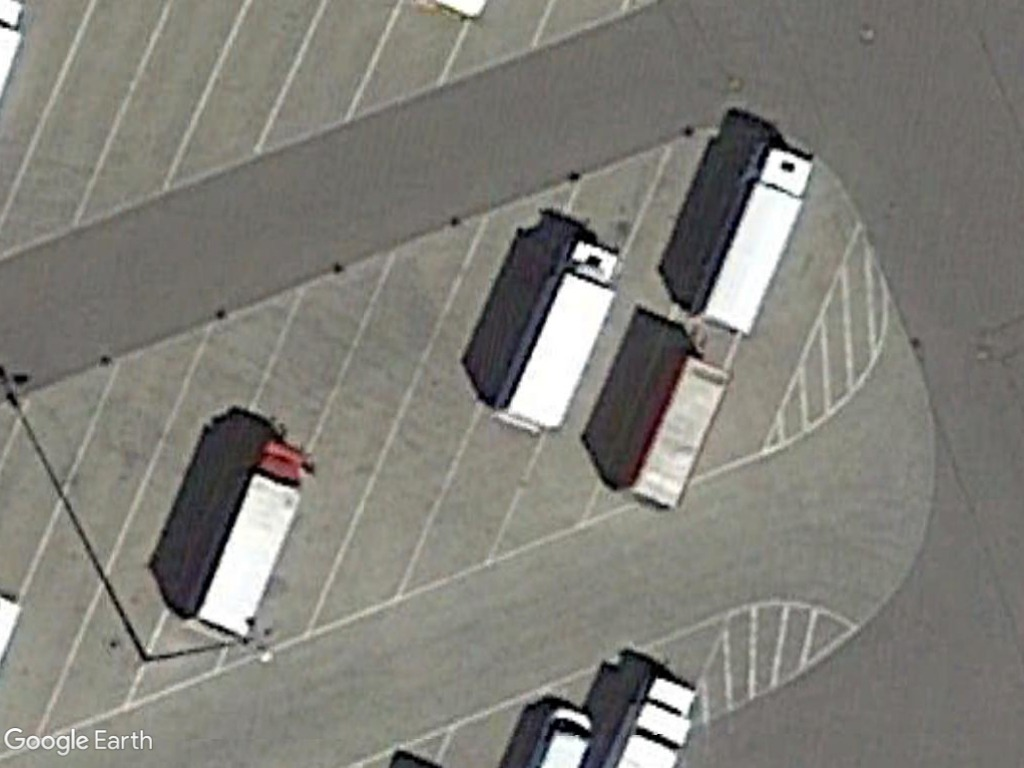truck: (483, 232, 626, 436), (682, 136, 821, 339), (178, 438, 312, 648)
